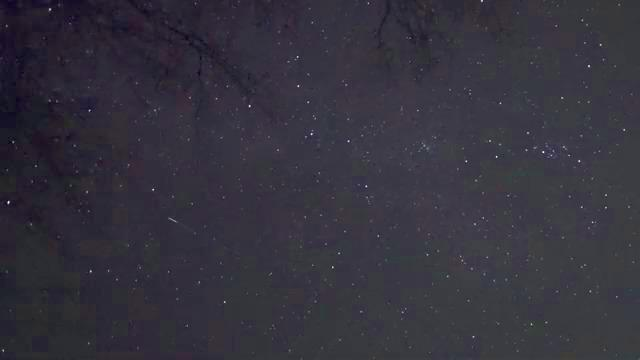meteorite: (148, 214, 204, 231)
